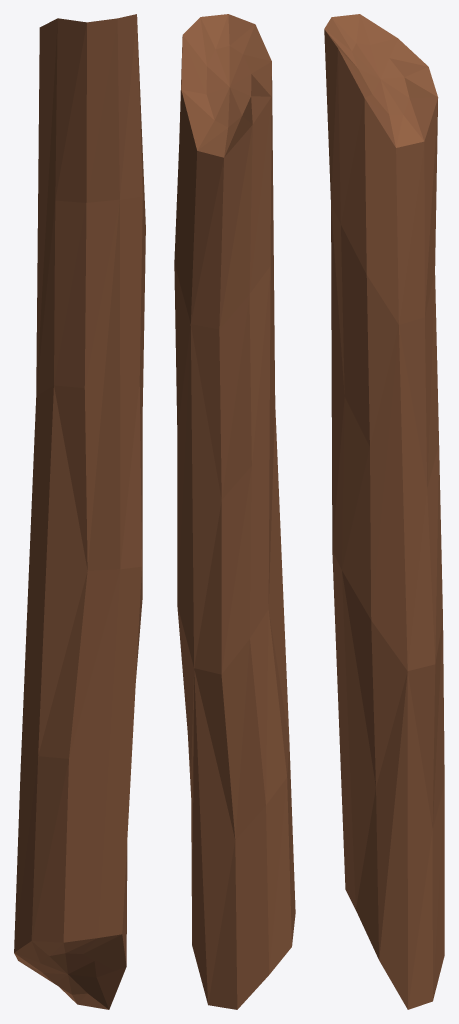
The model's file is woodSupport1.fbx.
3 renders of one model, left to right at view 1: azimuth 30°, elevation 25°; view 2: azimuth 210°, elevation 25°; view 3: azimuth 270°, elevation 25°, orthographic. The views are drawn at different scales.
Parts seen in each view (by area): view 1: bridge_002.001; view 2: bridge_002.001; view 3: bridge_002.001.
Part boxes in pixels (bbox=[...]): bridge_002.001: bbox=[14, 14, 145, 1009]; bridge_002.001: bbox=[174, 14, 295, 1009]; bridge_002.001: bbox=[324, 14, 444, 1009].
Bounding box in the file's own units: 0.4952 × 4.5 × 0.5098.
